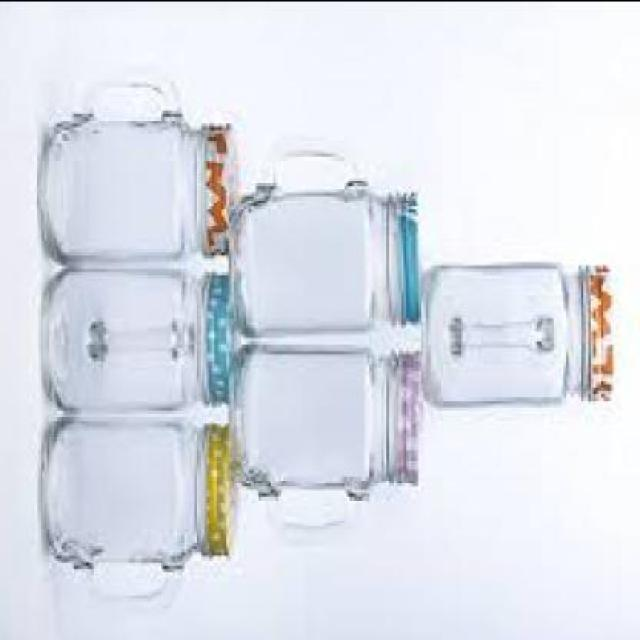GLASS: (236, 340, 396, 542), (234, 136, 398, 332), (42, 66, 207, 260), (44, 409, 199, 614), (424, 254, 588, 406), (44, 264, 207, 408)
METAL: (391, 346, 424, 479), (209, 267, 242, 396), (207, 418, 239, 551), (588, 254, 615, 395), (204, 119, 233, 248), (399, 185, 421, 317)
